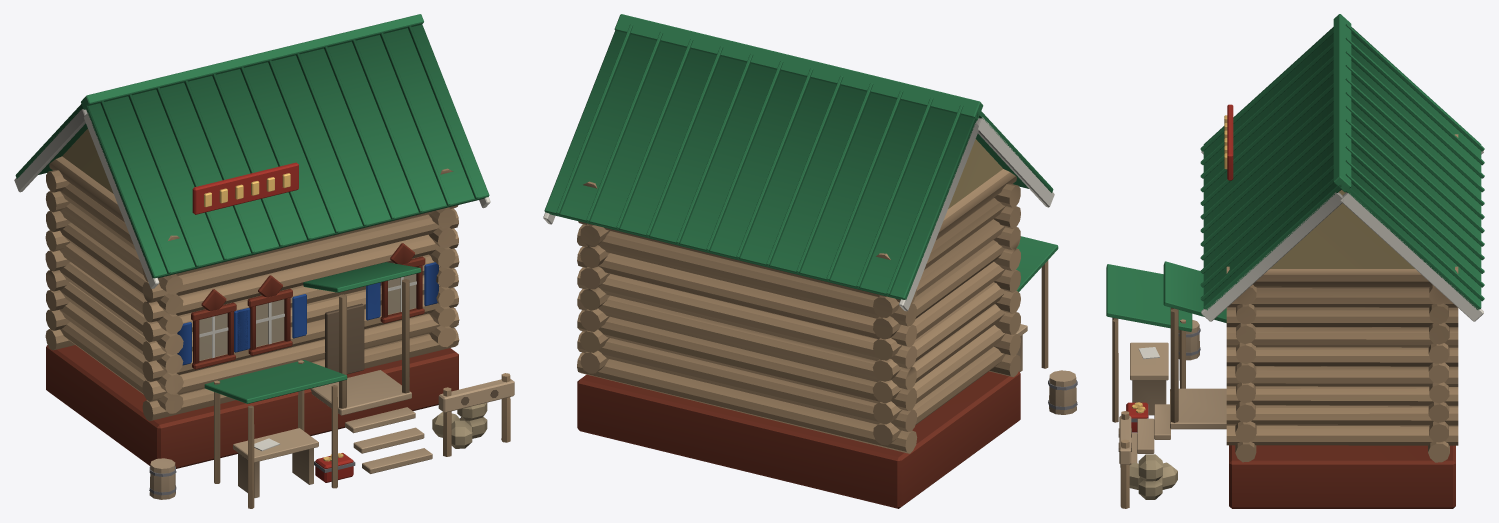
File: bld_prikaz_e2.glb
3 views of the same model, side by side, from view 1: azimuth 30°, elevation 25°; view 2: azimuth 150°, elevation 25°; view 3: azimuth 270°, elevation 25° (orthographic). The views are drawn at different scales.
Parts seen in each view (by area): view 1: prikaz; view 2: prikaz; view 3: prikaz.
Part boxes in pixels (x1,y1,x2,y2): prikaz: (14, 14, 514, 508); prikaz: (543, 14, 1077, 508); prikaz: (1106, 14, 1484, 508).
Bounding box in the file's own units: 1.66 × 1.56 × 1.57.
